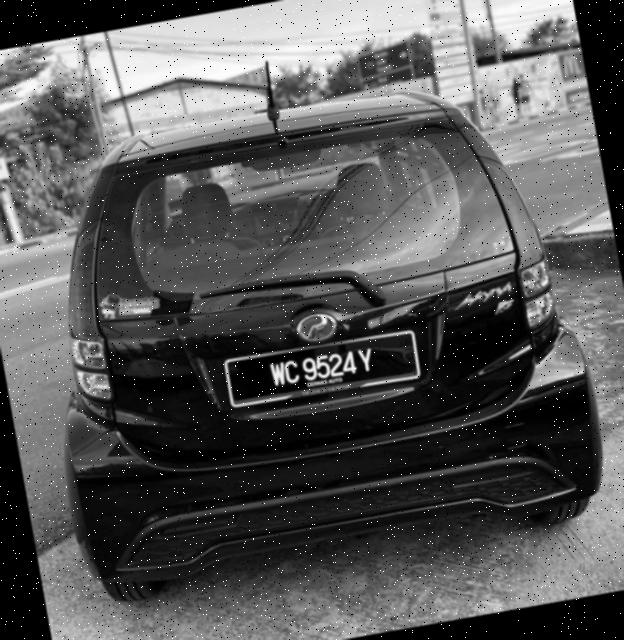License_Plate: (237, 335, 409, 401)
car: (11, 56, 620, 612)
